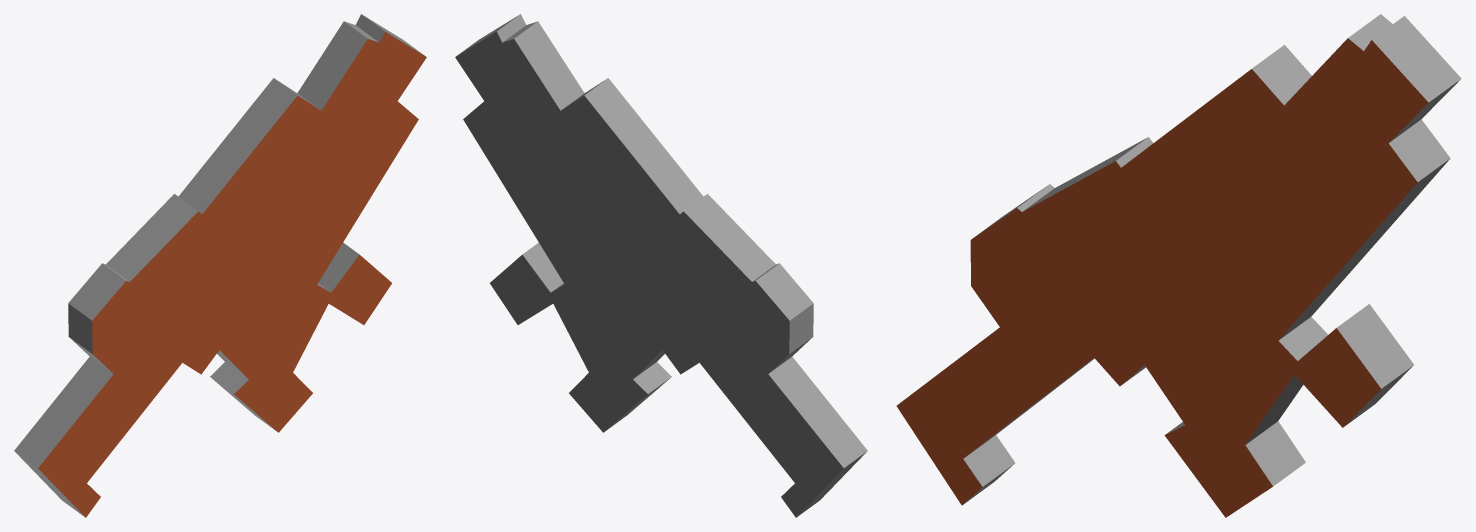
Rendered from construction_6600_assumed_A_Casa_h6m.obj.
The picture shows the model from 3 angles, left to right: view 1: azimuth 30°, elevation 25°; view 2: azimuth 150°, elevation 25°; view 3: azimuth 330°, elevation 25°; orthographic projection. The views are drawn at different scales.
Parts seen in each view (by area): view 1: construction_6600_assumed_A_Casa; view 2: construction_6600_assumed_A_Casa; view 3: construction_6600_assumed_A_Casa.
Part boxes in pixels (<box>): construction_6600_assumed_A_Casa: <box>14,14,426,517</box>; construction_6600_assumed_A_Casa: <box>455,14,867,517</box>; construction_6600_assumed_A_Casa: <box>896,14,1461,517</box>.
Size of the model in its own units: 56.07 by 56.95 by 6.
